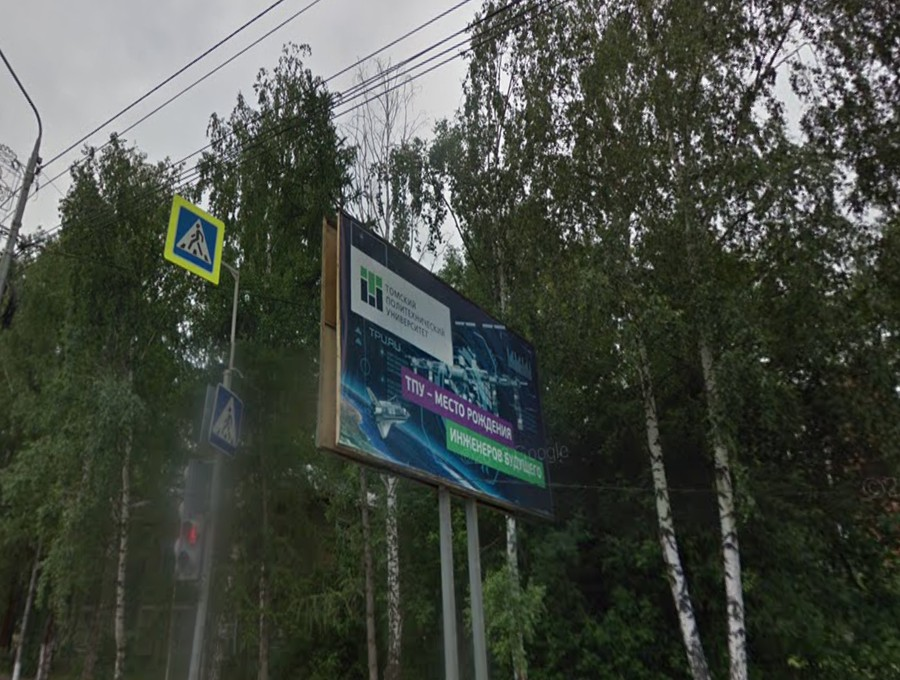Traffic Light-red: (178, 507, 209, 581)
